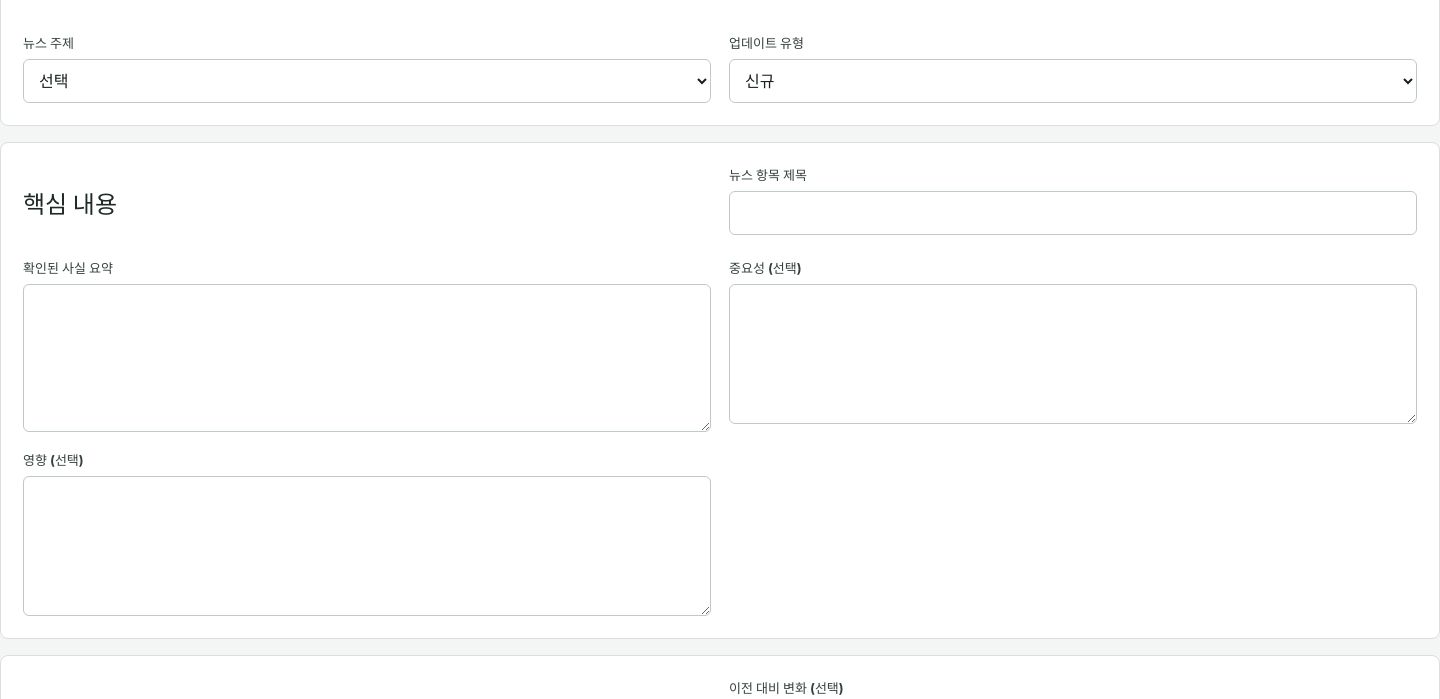
Test: NewsUpdateForm › removes the previous-update input for new updates and shows it for follow-ups
Expected: the field labelled "이전 업데이트" is not shown
Select "후속" in the dropdown labelled "업데이트 유형" at (1073, 81), box [729, 59, 1417, 103]
(page scrolled)
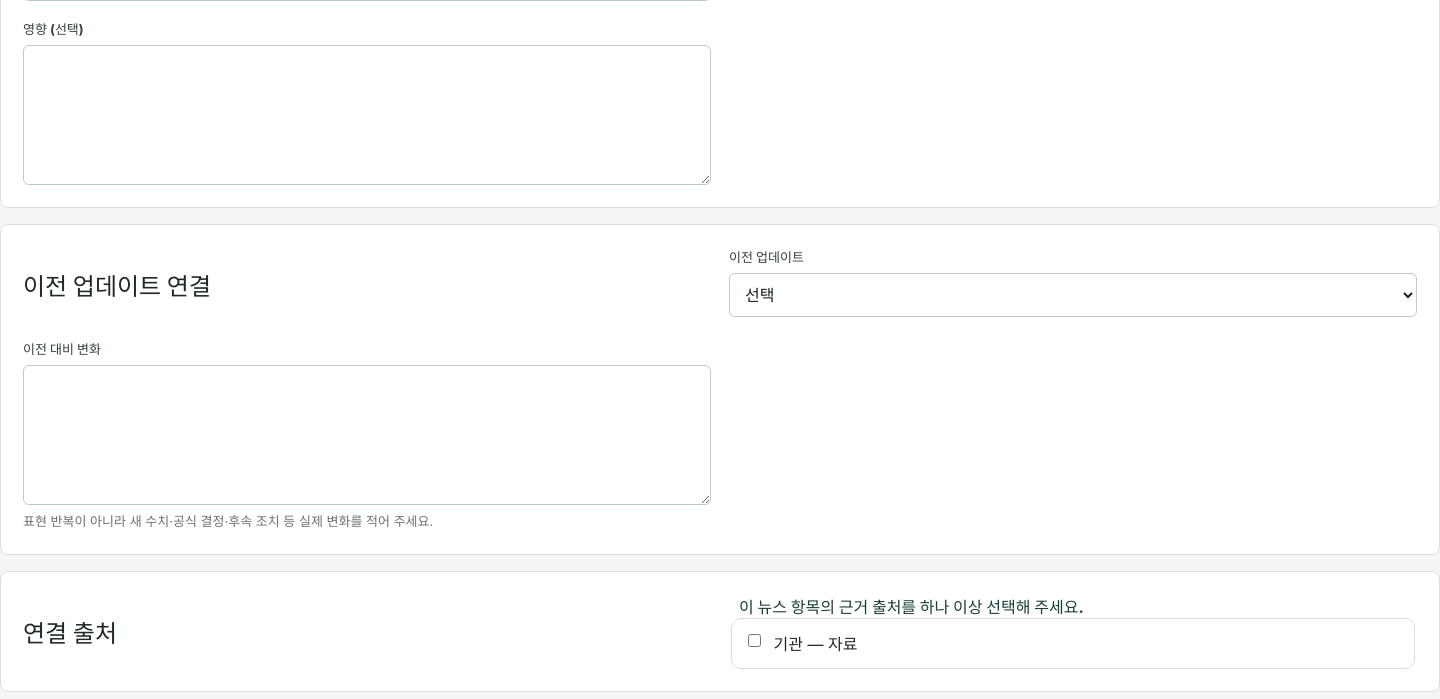
Expected: the dropdown labelled "이전 업데이트" is shown, [729, 273, 1417, 317]
